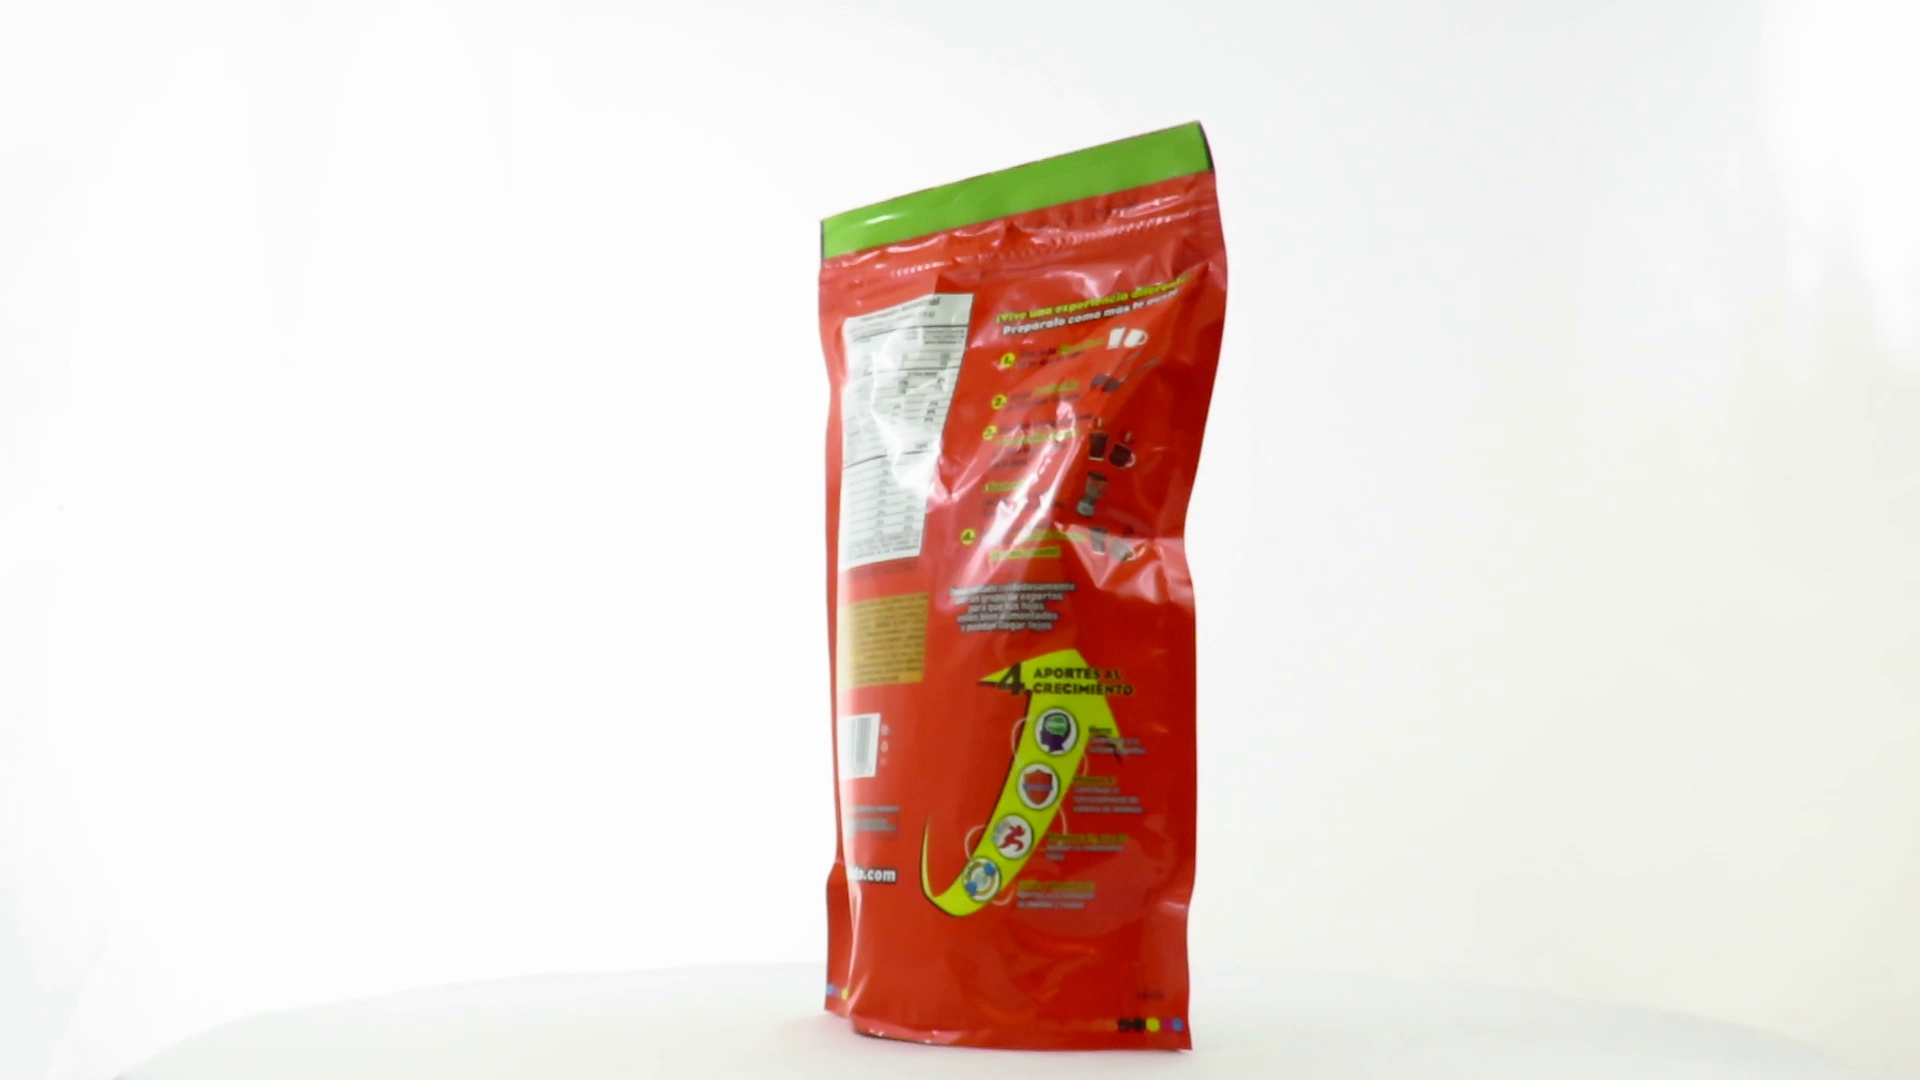COL0170102DYP50000: (814, 115, 1234, 1058)
